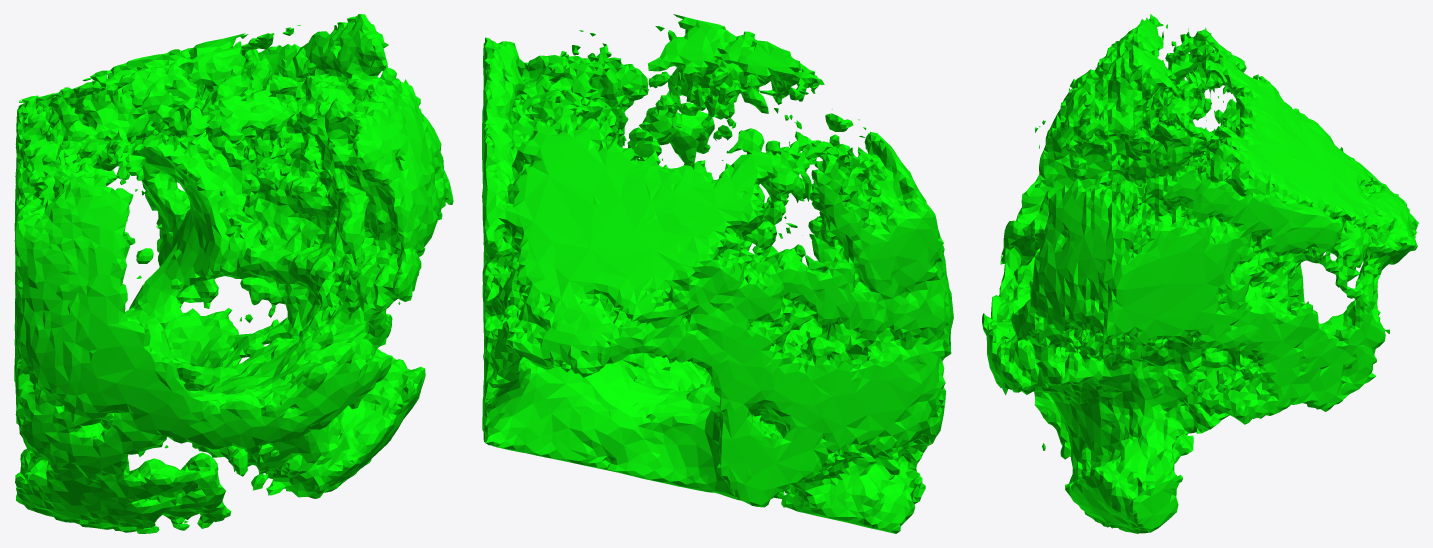
The model's file is B939XXXX-1_base_15.obj.
3 views of the same model, side by side, from view 1: azimuth 30°, elevation 25°; view 2: azimuth 150°, elevation 25°; view 3: azimuth 270°, elevation 25° (orthographic). The views are drawn at different scales.
Visible parts, largest first — view 1: 15_base; view 2: 15_base; view 3: 15_base.
Part boxes in pixels (<box>): 15_base: <box>14,14,453,533</box>; 15_base: <box>482,14,953,533</box>; 15_base: <box>982,14,1418,533</box>.
Size of the model in its own units: 217 by 218 by 204.
